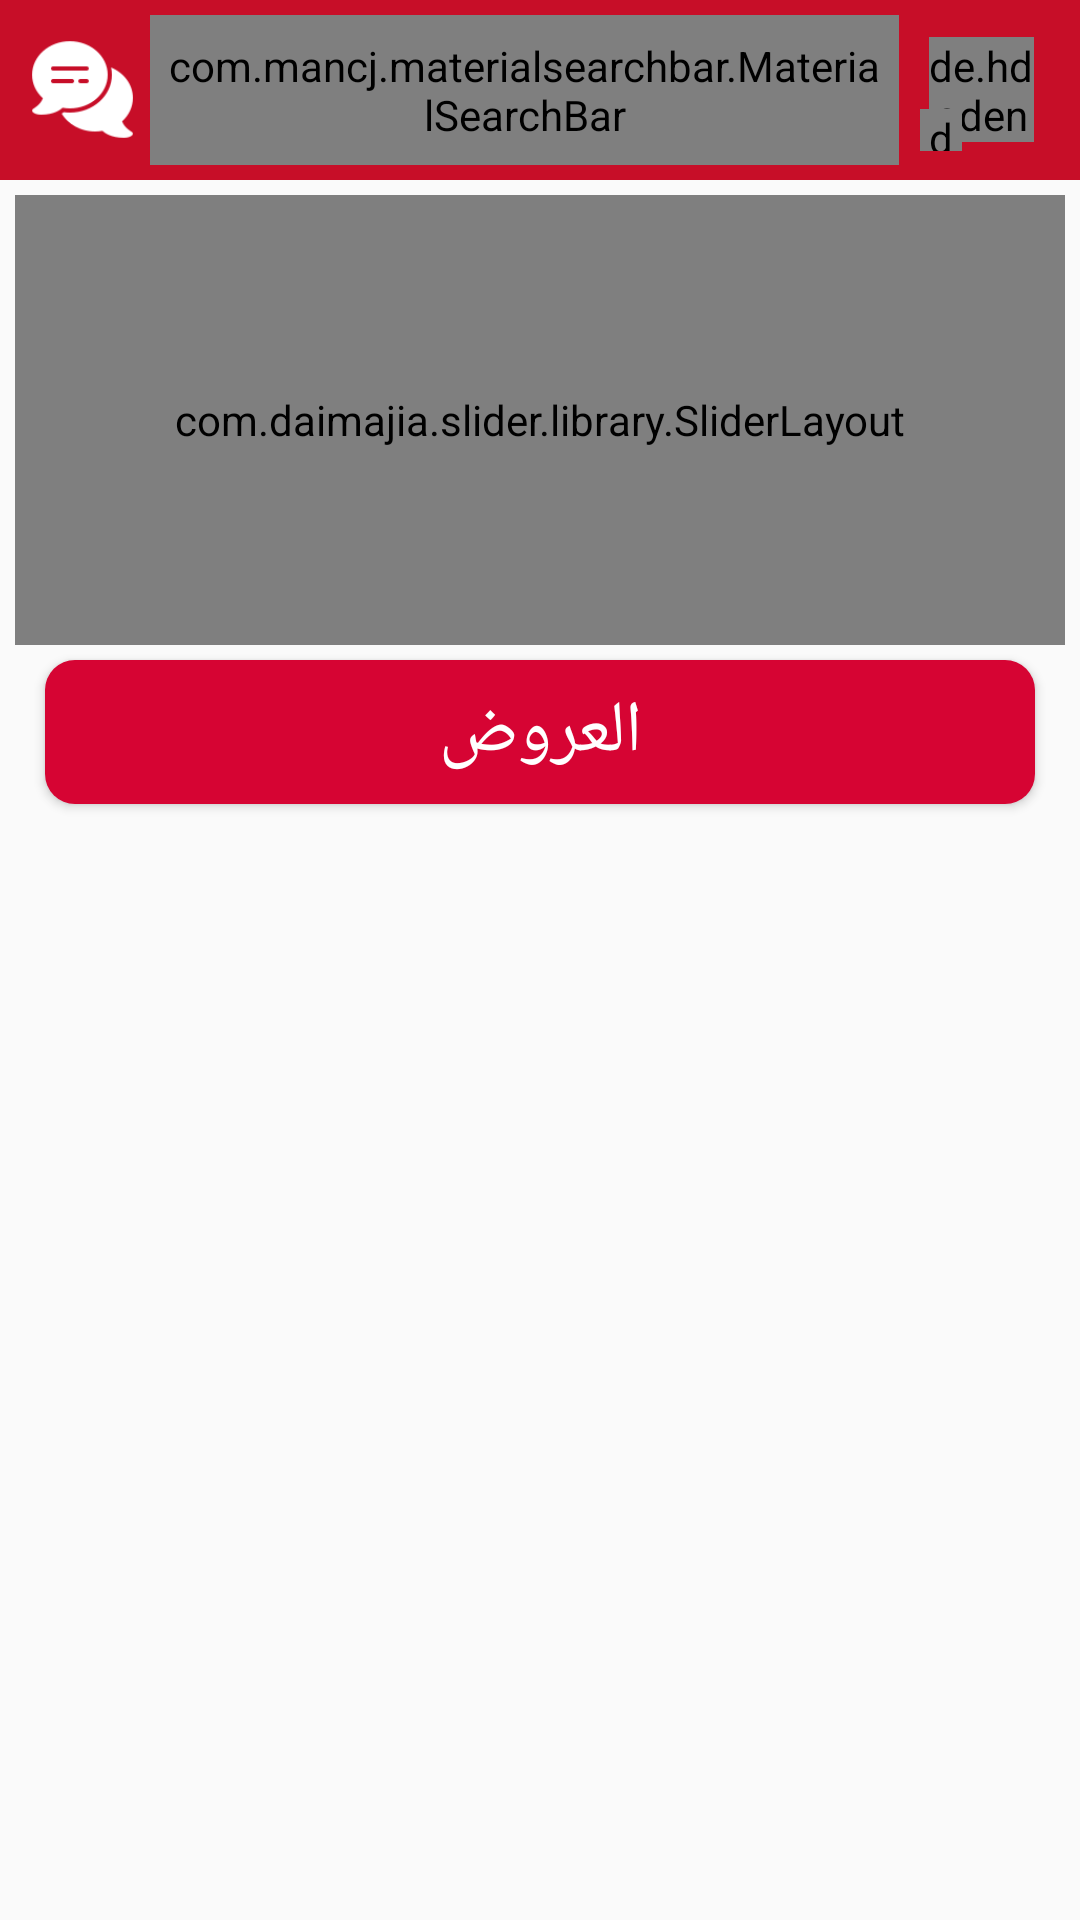

Icon click points for this 1080 x 1920 phone screenshot, format [x,y]:
messaging: [82,89]
